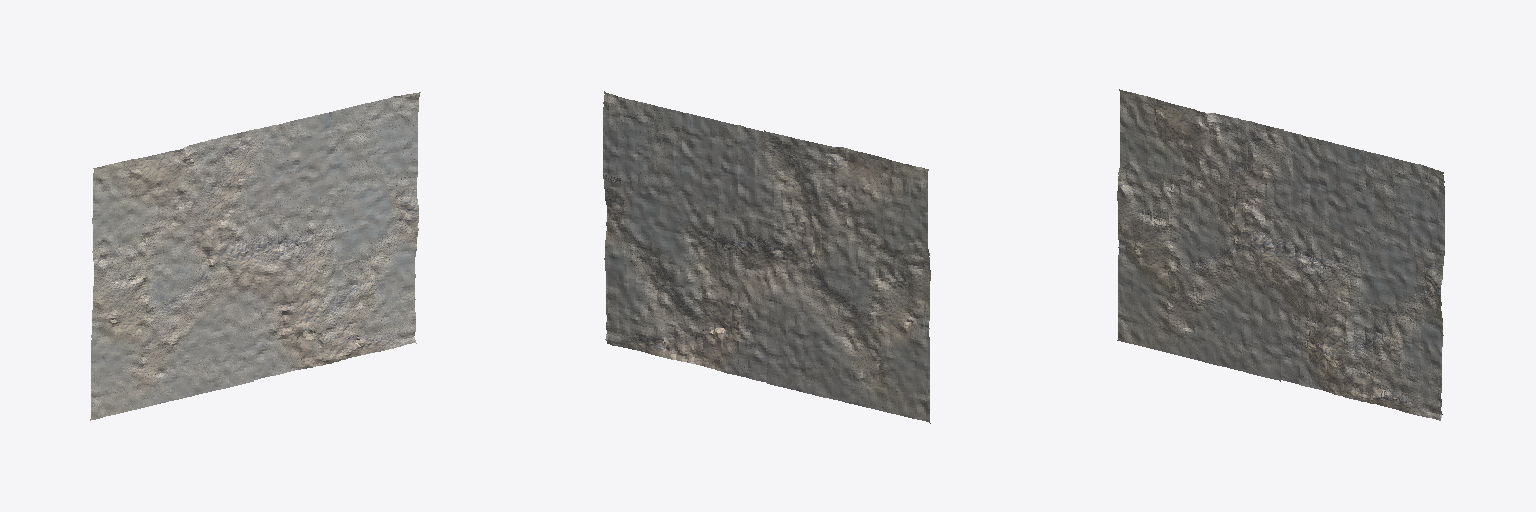
3 views of the same model, side by side, from view 1: azimuth 30°, elevation 25°; view 2: azimuth 150°, elevation 25°; view 3: azimuth 330°, elevation 25° (orthographic).
Visible parts, largest first — view 1: ID42, ID68, ID29, ID55, ID3, ID16; view 2: ID42, ID68, ID55, ID3, ID16, ID29; view 3: ID42, ID68, ID3, ID55, ID29, ID16.
Part boxes in pixels (left/top/right/bottom): ID42: left=252, top=257, right=416, bottom=379; ID68: left=92, top=129, right=255, bottom=253; ID29: left=253, top=172, right=418, bottom=295; ID55: left=90, top=297, right=254, bottom=420; ID3: left=92, top=214, right=256, bottom=334; ID16: left=255, top=92, right=420, bottom=213; ID42: left=605, top=259, right=768, bottom=383; ID68: left=764, top=130, right=928, bottom=253; ID55: left=767, top=299, right=930, bottom=423; ID3: left=766, top=216, right=930, bottom=338; ID16: left=603, top=91, right=765, bottom=216; ID29: left=604, top=173, right=769, bottom=297; ID42: left=1279, top=296, right=1442, bottom=420; ID68: left=1118, top=89, right=1283, bottom=213; ID3: left=1117, top=172, right=1281, bottom=298; ID55: left=1117, top=255, right=1280, bottom=381; ID29: left=1278, top=210, right=1443, bottom=335; ID16: left=1282, top=130, right=1444, bottom=255.
Bounding box in the file's own units: 149227 × 110484 × 4201.
Materials: 6 (6 with a texture image).